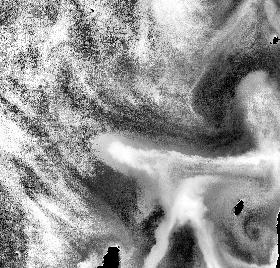CE: (240, 211, 275, 254)
